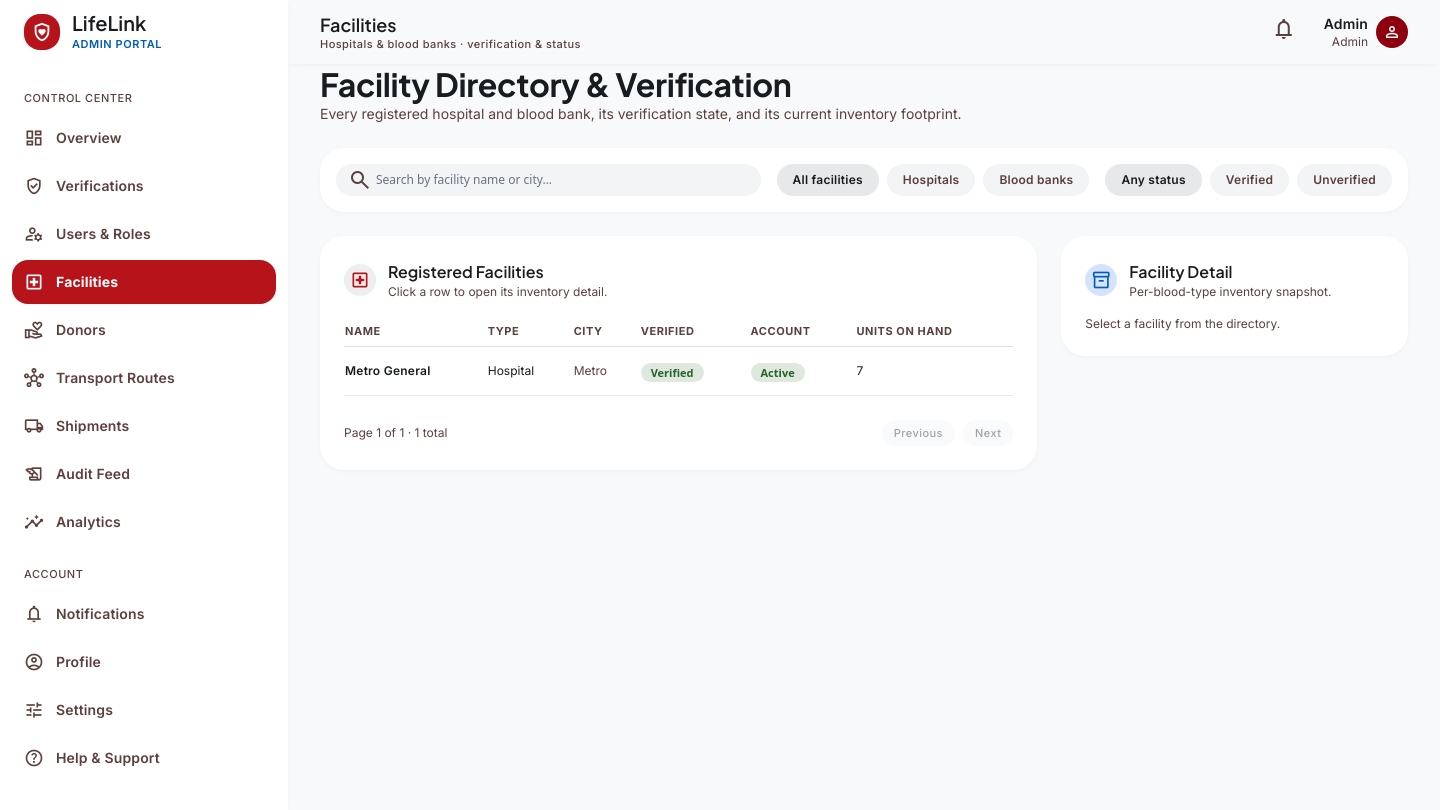
Test: AdminFacilities detail (Phase G) › shows the component so two lines of one blood type are distinguishable
Click the text "Metro General".
click(415, 371)  # box top-left (344, 346), bottom-right (487, 396)
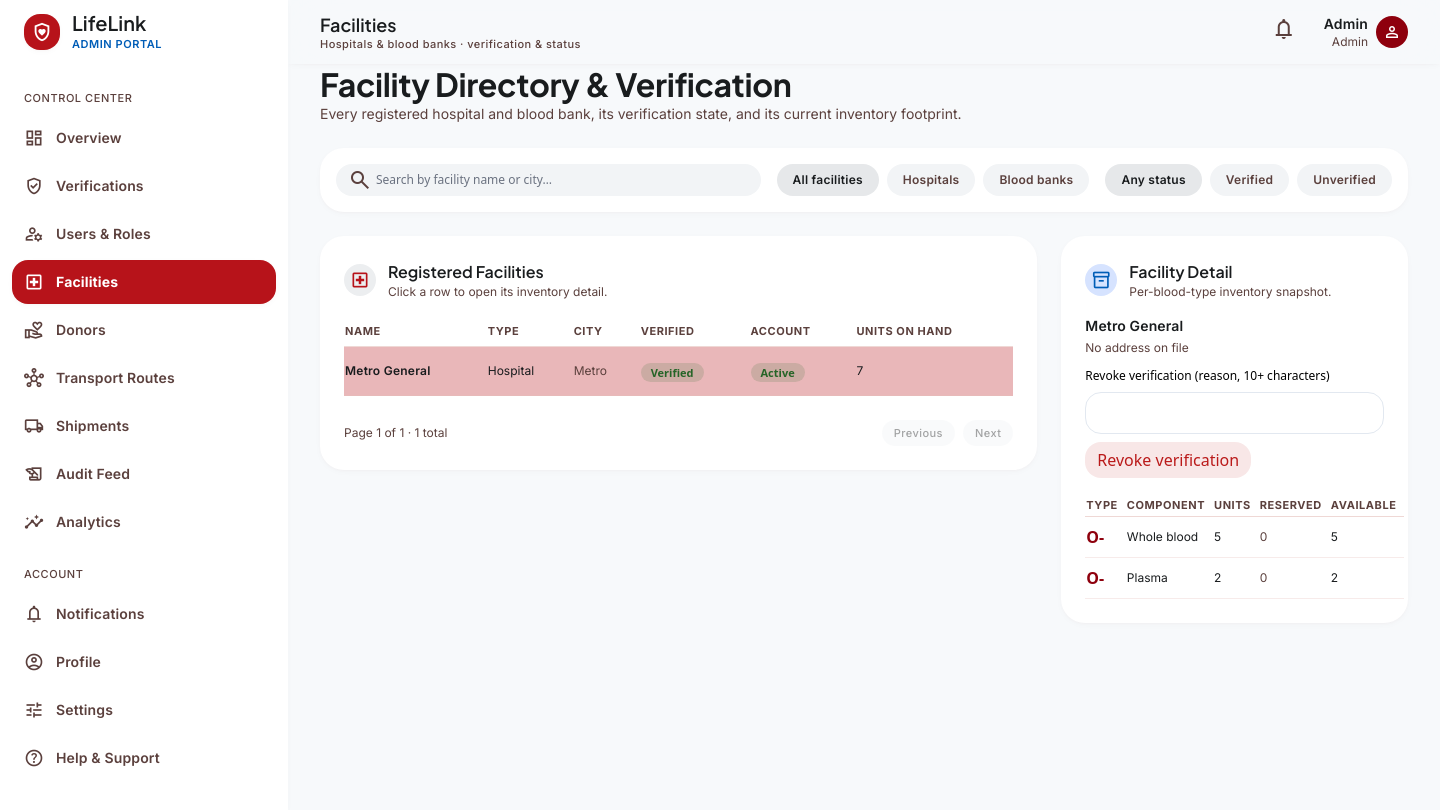
Now the text "Plasma" is shown, box top-left (1126, 558), bottom-right (1213, 598)
Now the text "Whole blood" is shown, box top-left (1126, 516), bottom-right (1213, 558)
